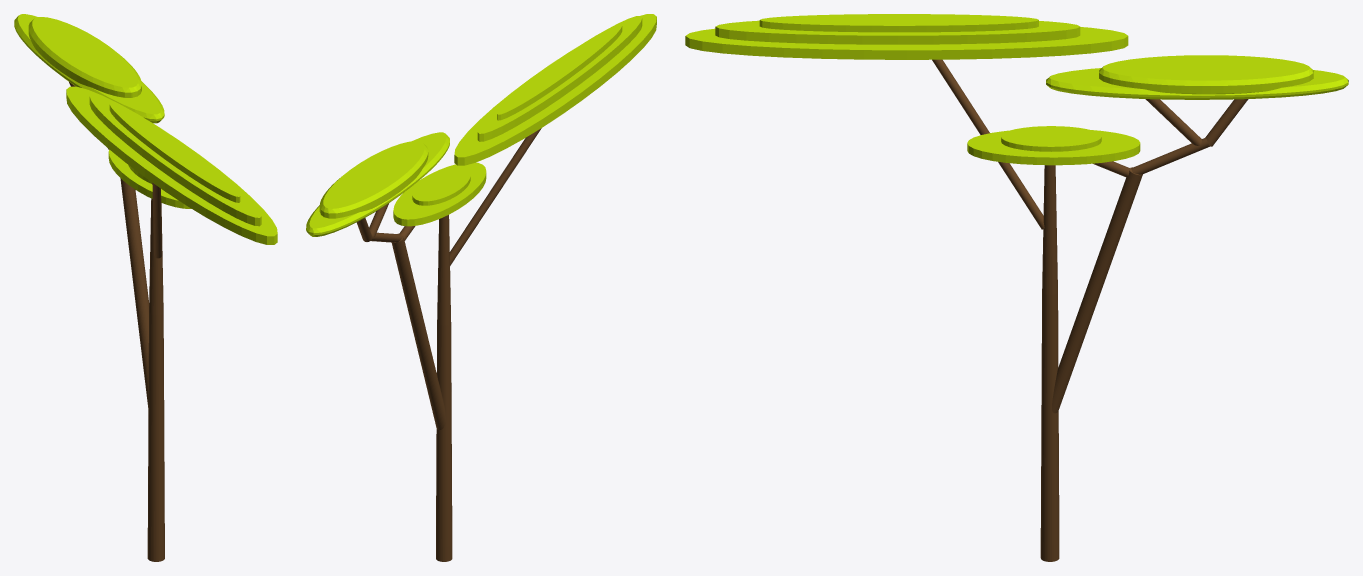
File: boom2.gltf
3 views of the same model, side by side, from view 1: azimuth 30°, elevation 25°; view 2: azimuth 150°, elevation 25°; view 3: azimuth 270°, elevation 25° (orthographic). The views are drawn at different scales.
Parts seen in each view (by area): view 1: Cylinder; view 2: Cylinder; view 3: Cylinder.
Boxes of the visible parts, bbox=[...] form: Cylinder: bbox=[14, 14, 277, 561]; Cylinder: bbox=[306, 14, 656, 561]; Cylinder: bbox=[685, 14, 1348, 561].
Bounding box in the file's own units: 3.93 × 16.38 × 19.25.
